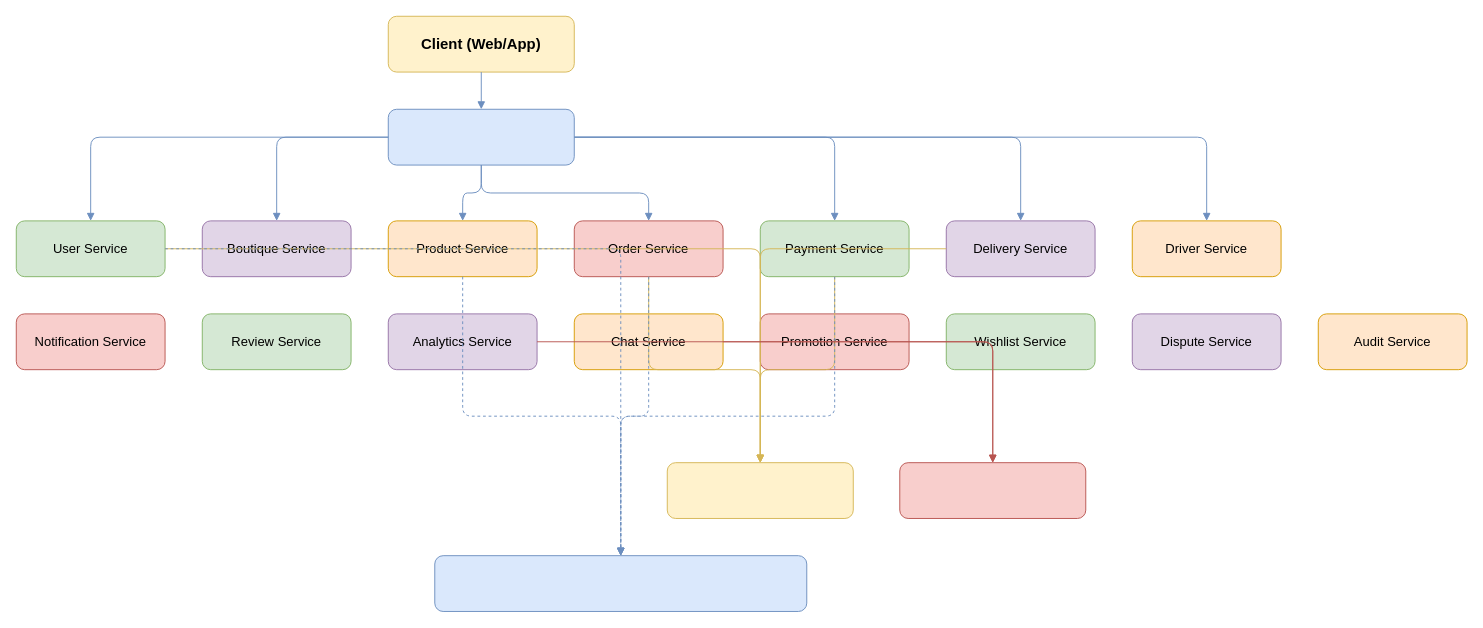
The diagram is 1483 pixels wide and 628 high, and some of its shapes have lost their labels. The shapes that lost their labels are listed below. From the top down, each one's centre as x and y in pixels, then its label:
At point 480,136: "API Gateway".
At point 759,490: "RabbitMQ (Message Broker)".
At point 992,490: "Redis (Cache/Session)".
At point 620,583: "MongoDB (Each Service Has Own DB)".
